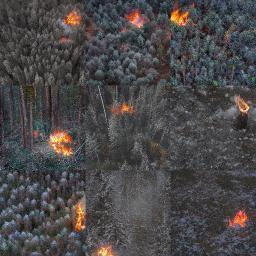Small fire: (46, 128, 77, 160), (72, 194, 87, 233), (167, 8, 197, 27), (231, 207, 252, 227), (116, 97, 136, 117), (125, 9, 147, 27), (60, 8, 81, 25), (98, 243, 114, 253)
